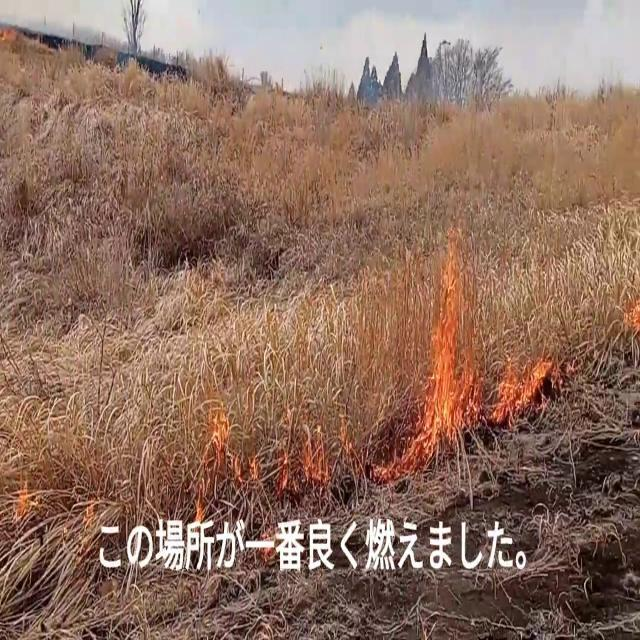Fire: (421, 217, 475, 453)
